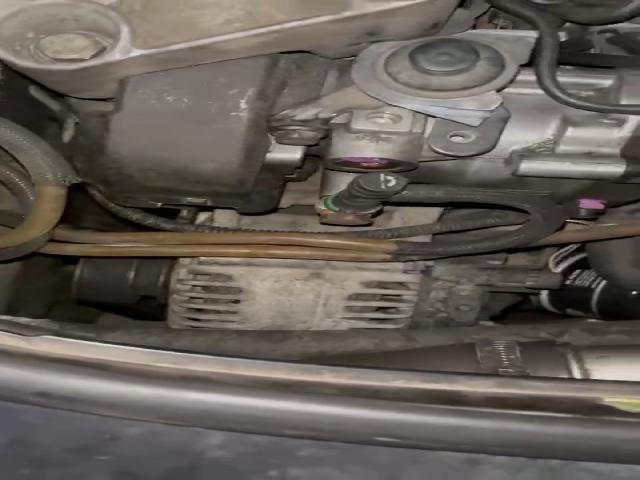alternator: (170, 258, 424, 330)
high_pressure_pump: (320, 68, 640, 218), (565, 68, 638, 98)
